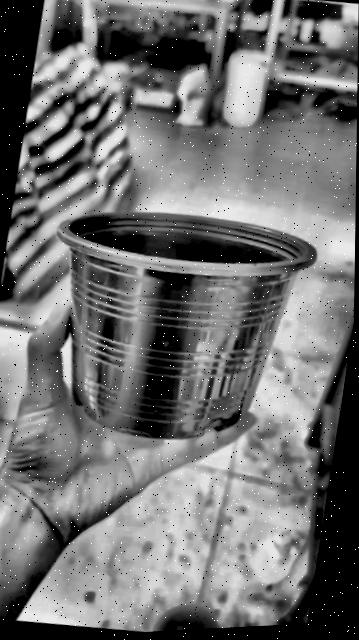pot: (57, 213, 315, 439)
